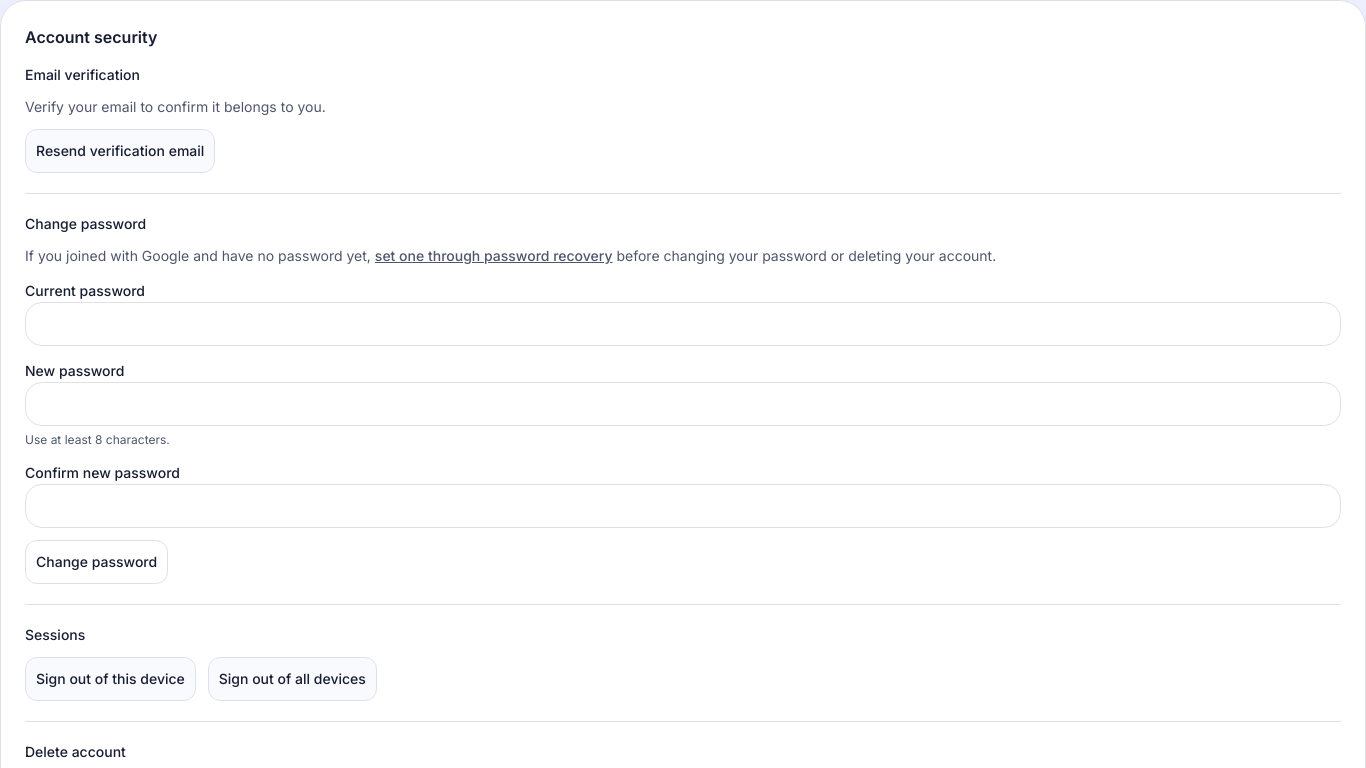
Test: account security › changes the password and clears password fields
Type "old-password" into the password field labelled "Current password". click: (683, 324)
box: [25,302,1341,346]
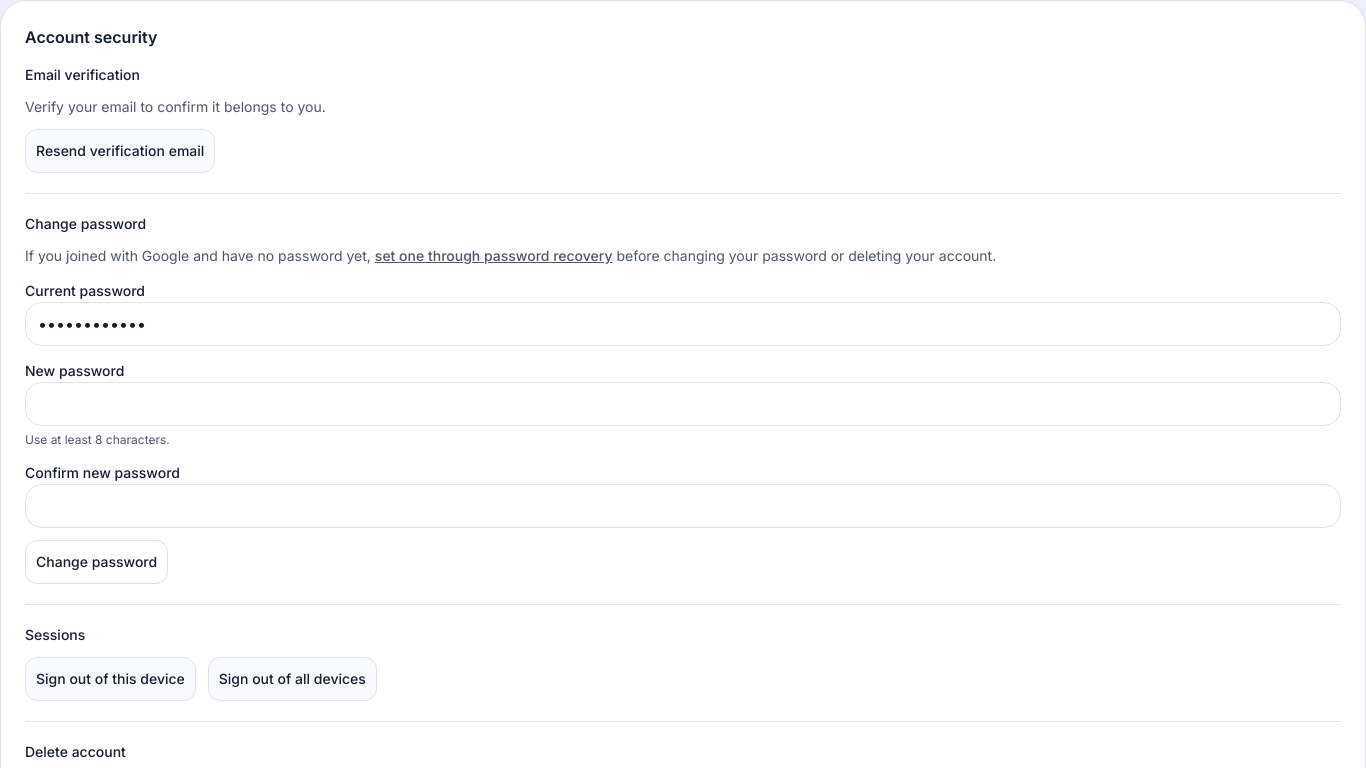
Type "new-password" into the password field labelled "New password". click: (683, 404)
box: [25,382,1341,426]
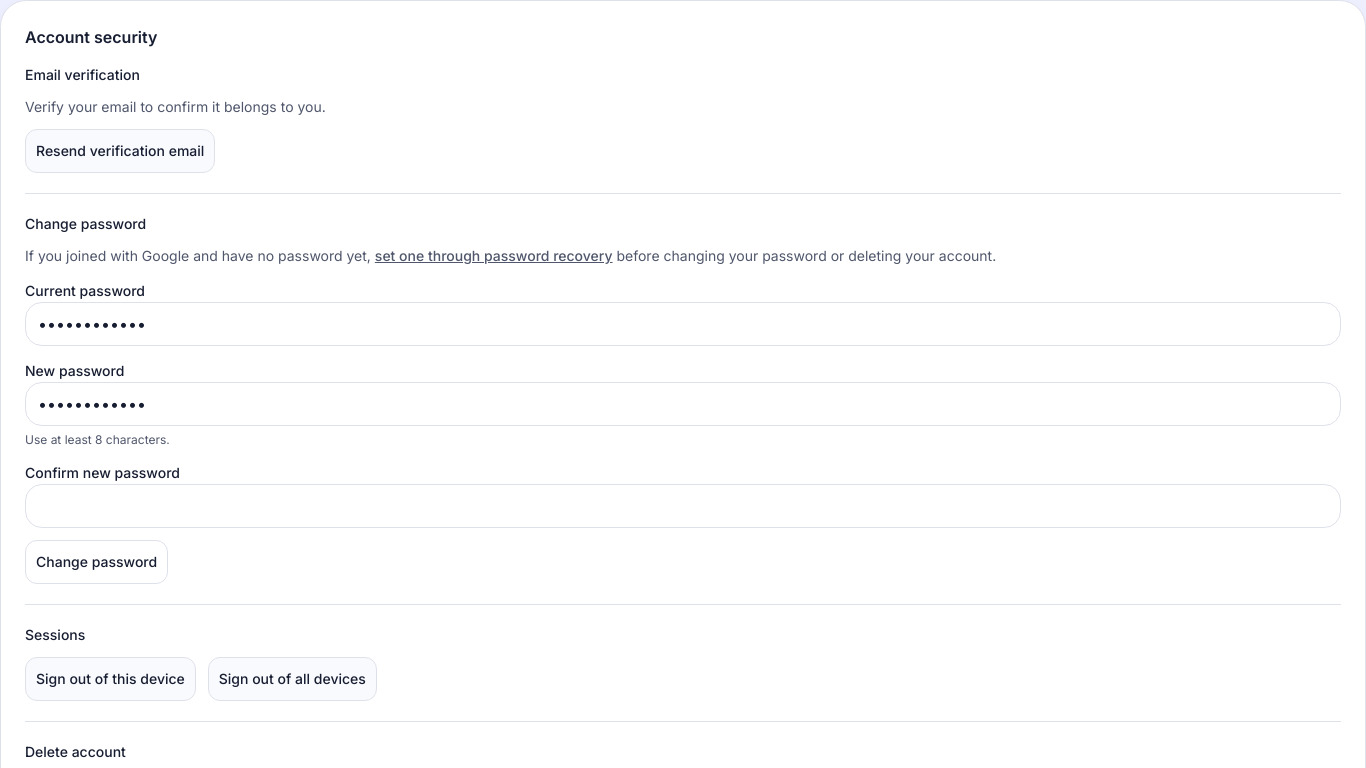
Type "new-password" into the password field labelled "Confirm new password". click: (683, 506)
box: [25,484,1341,528]
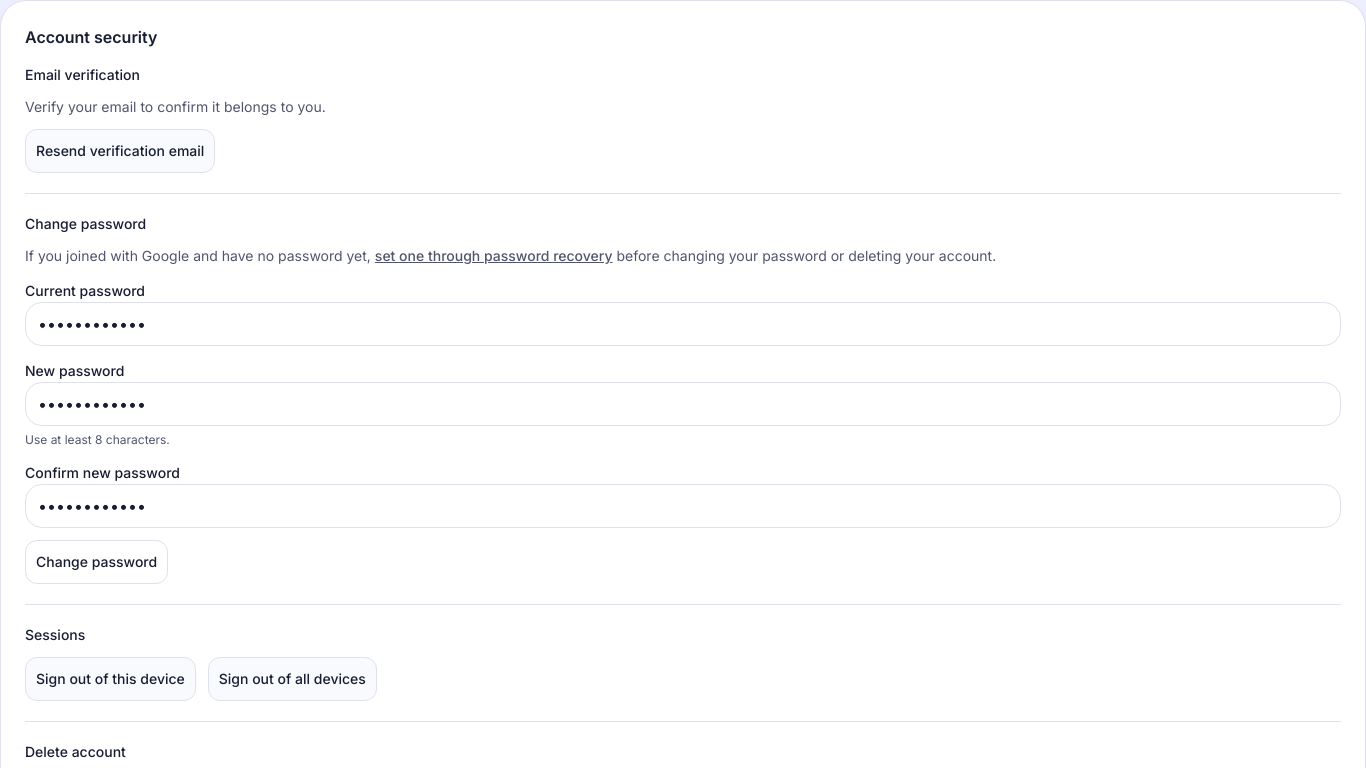
Click the button "Change password". click: (97, 562)
box: [25,540,168,584]
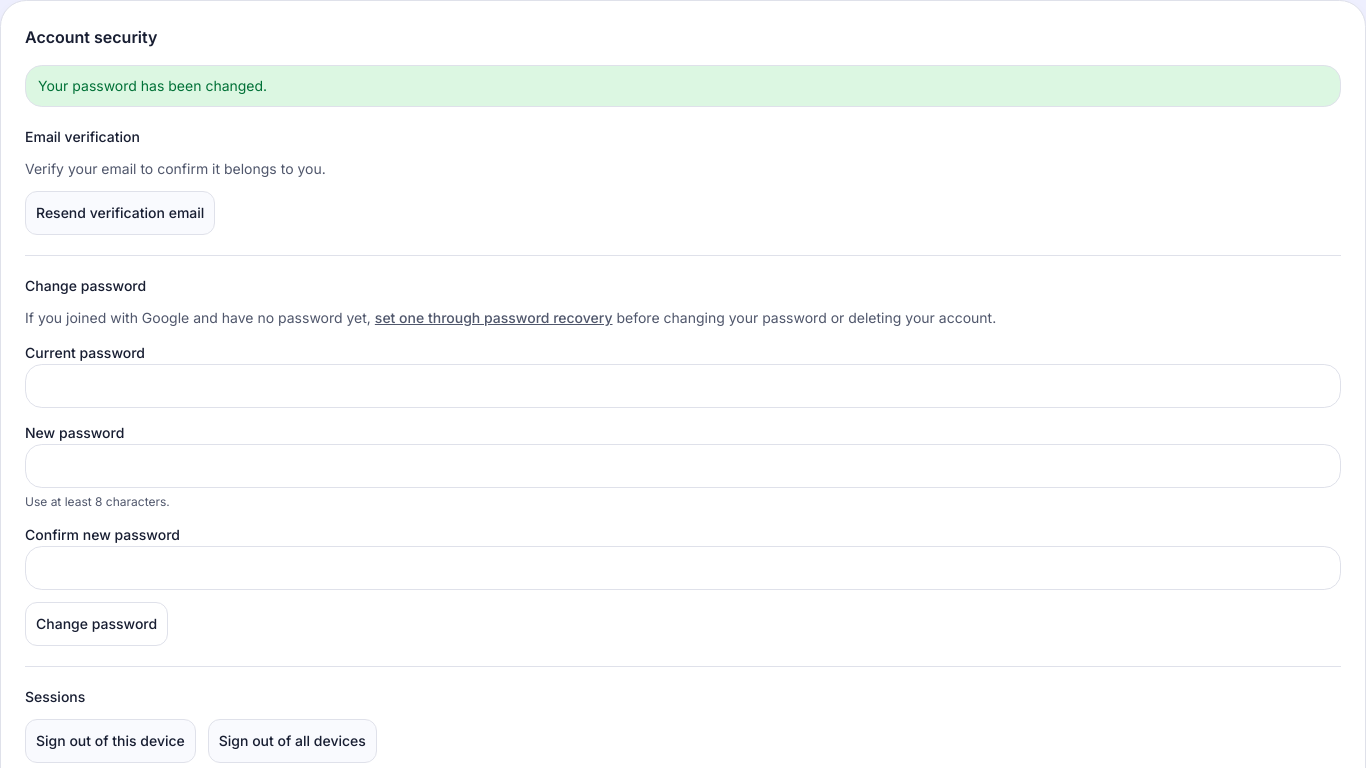
Check: the text "Your password has been changed." is shown, box [25,65,1341,107]
Check: the password field labelled "Current password" is empty, box [25,364,1341,408]
Check: the password field labelled "New password" is empty, box [25,444,1341,488]
